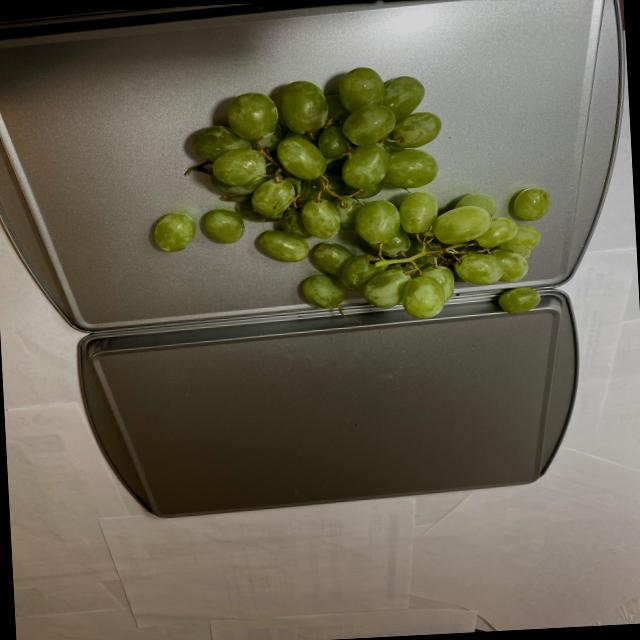grapes: (146, 66, 566, 328)
